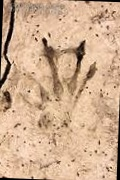fox: (56, 35, 114, 156), (16, 30, 59, 136)
